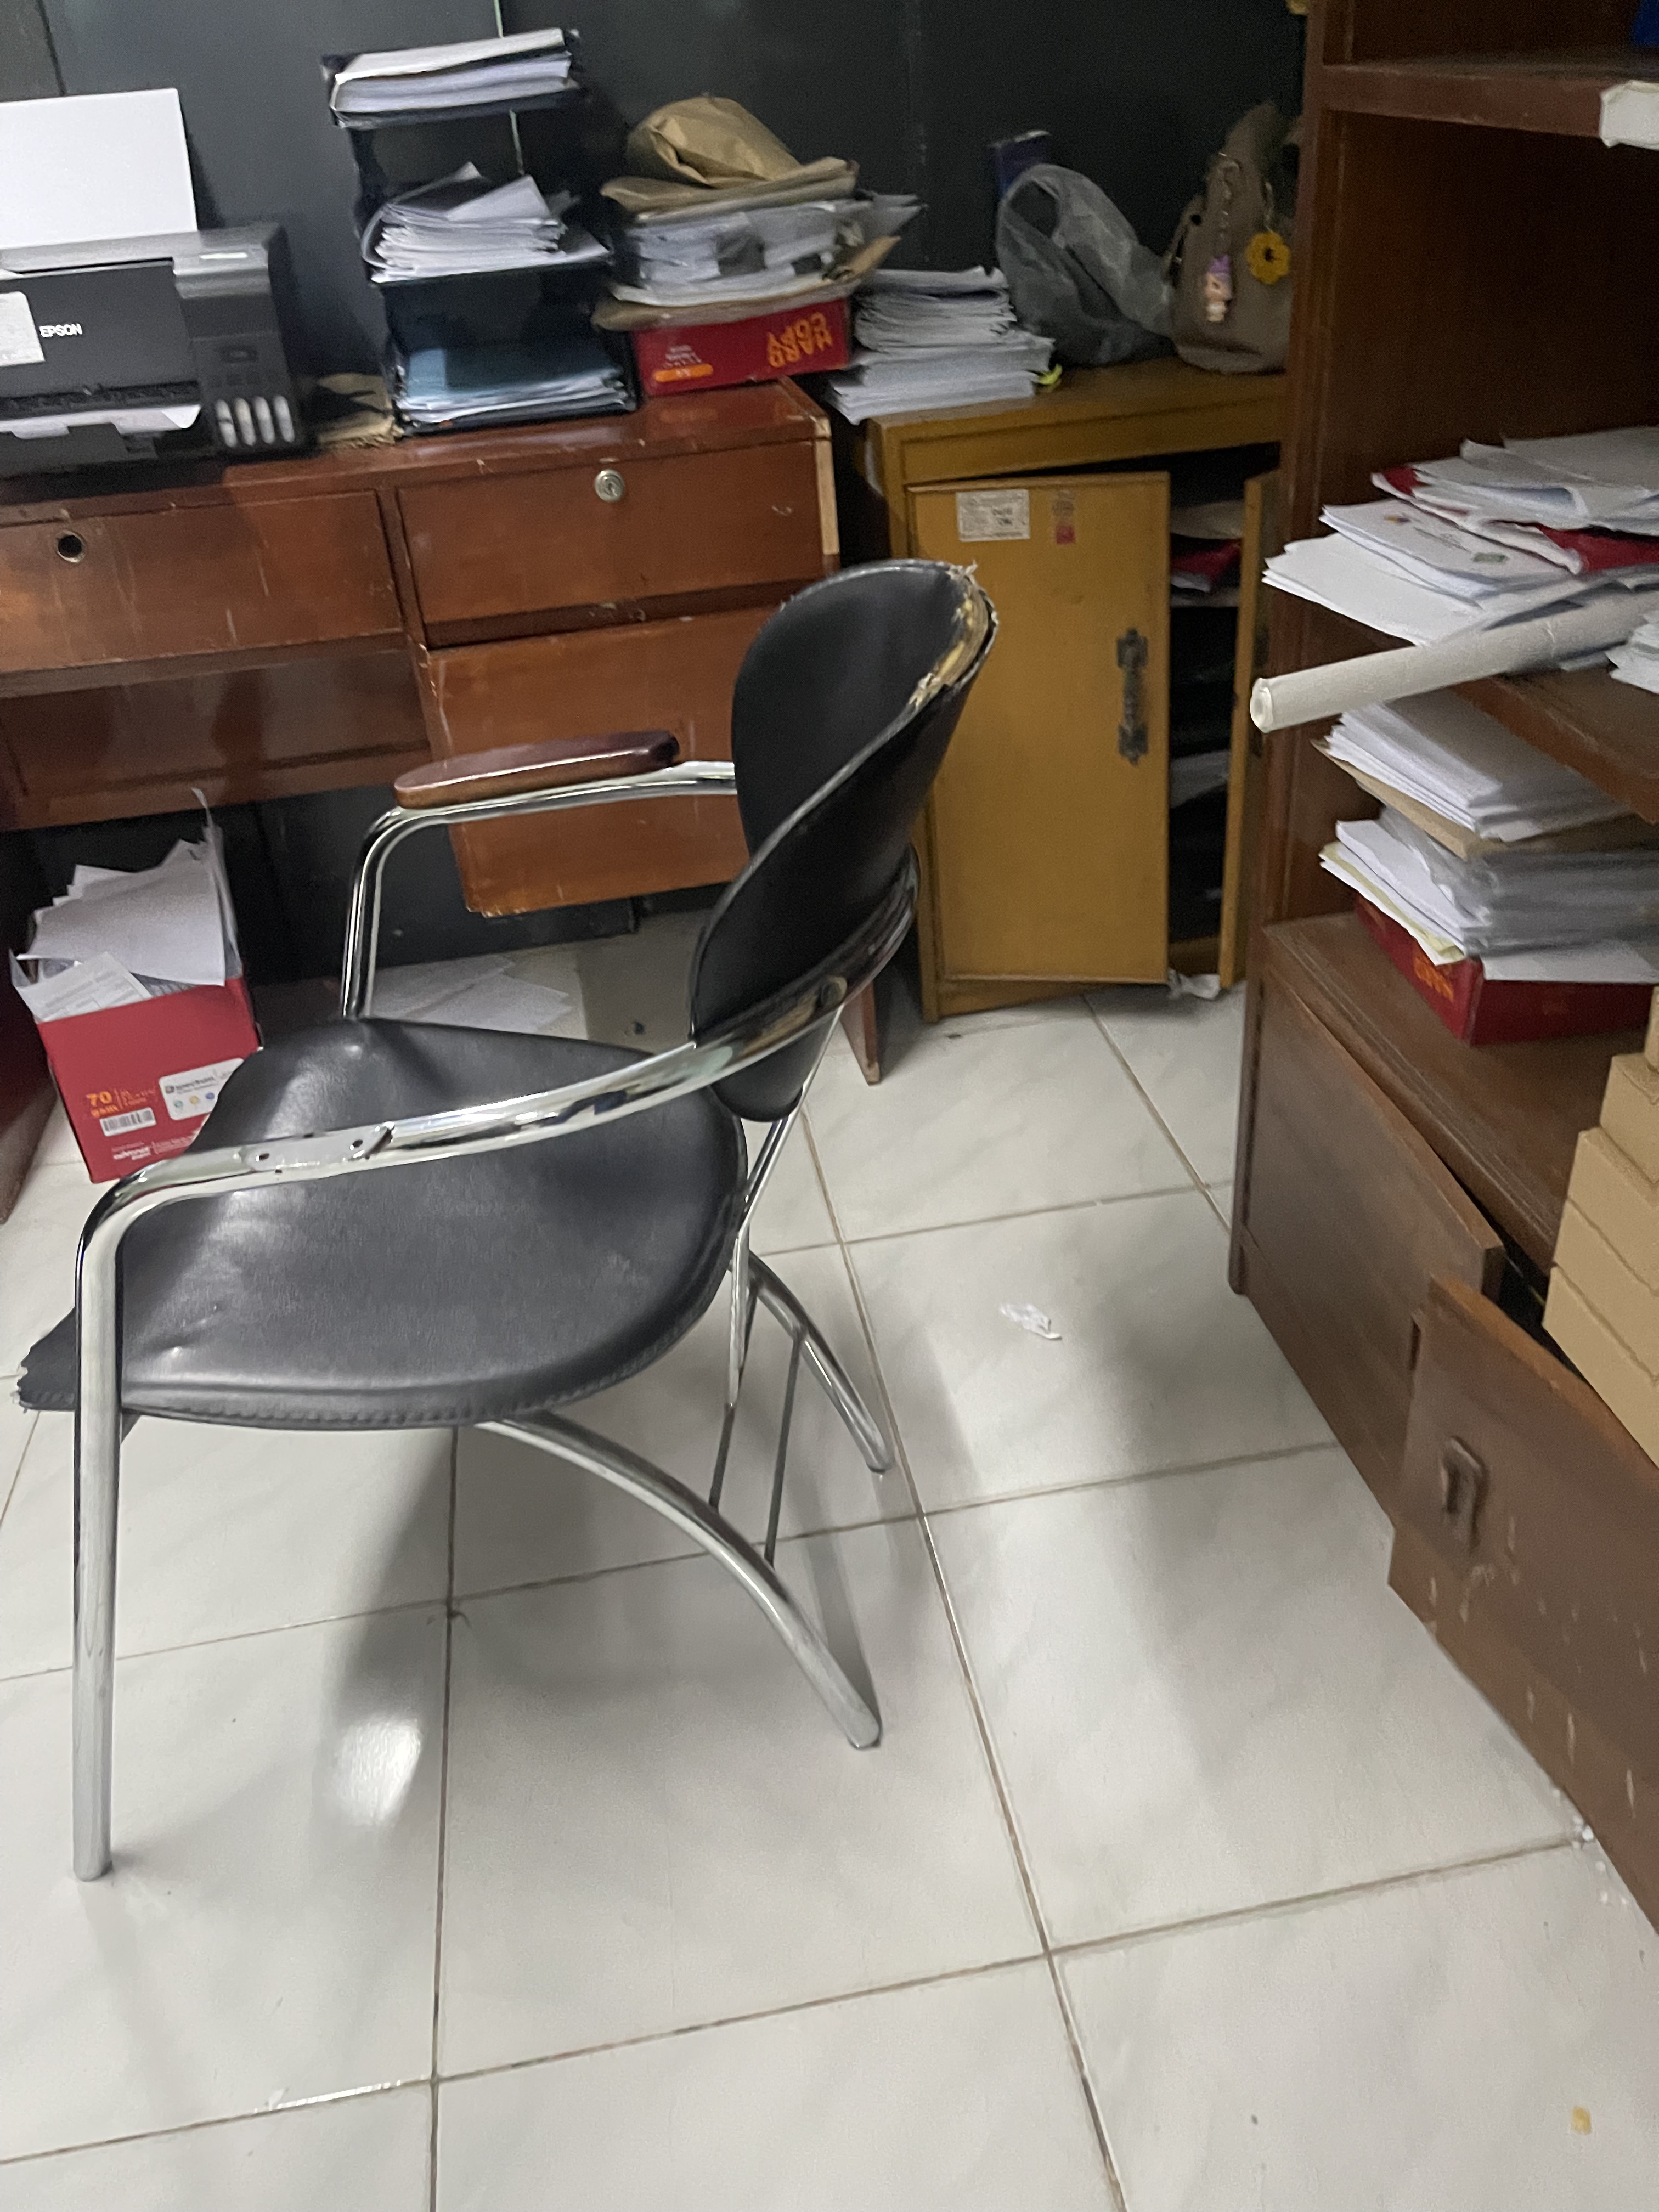chair1: (21, 559, 999, 1881)
